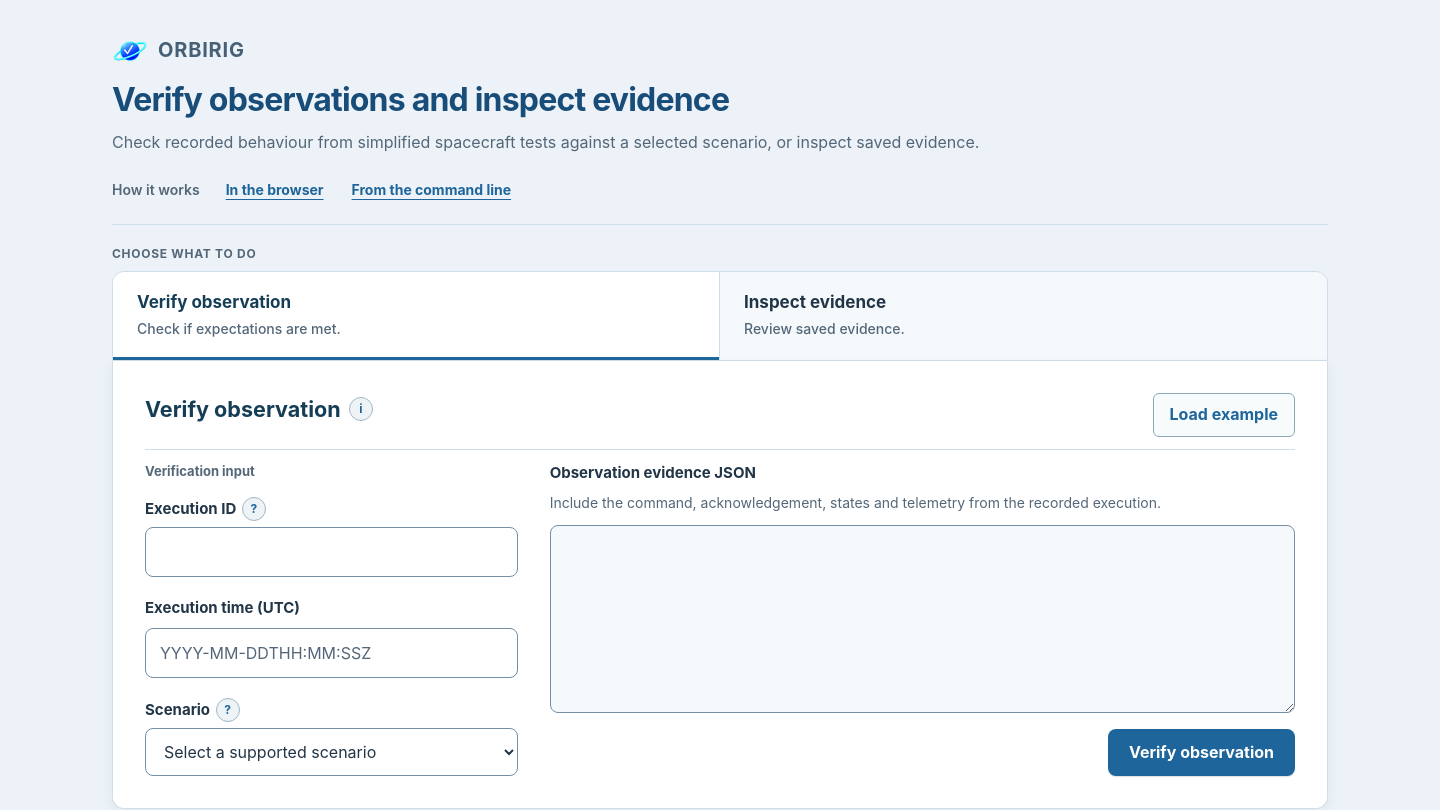
Test: App help › opens browser instructions for the active verification workflow on every opening
Click the button "In the browser" at (275, 190), box [224,168,326,212]
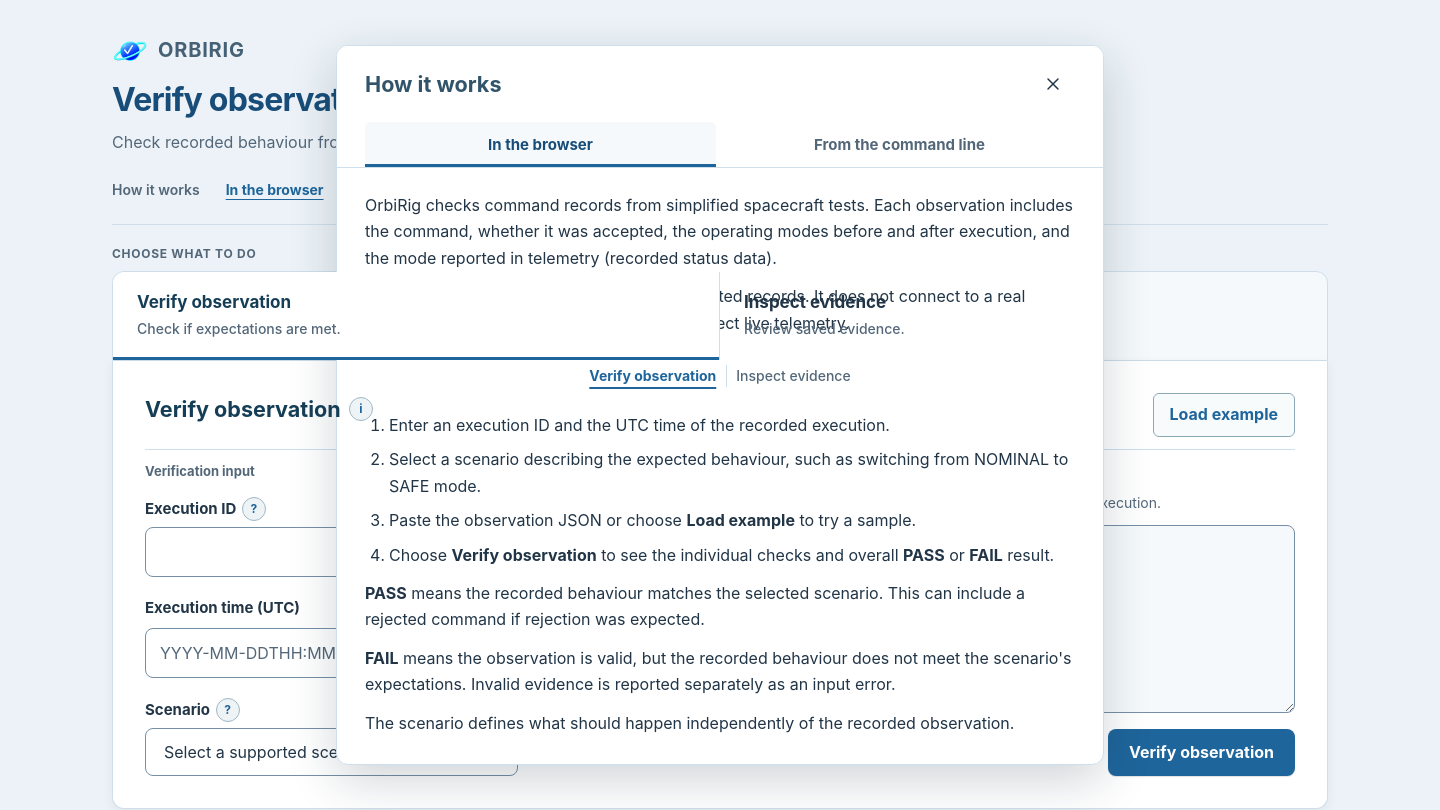
Now the tab "Verify observation" is shown, box [579,354,726,398]
Click the tab "Inspect evidence" at (794, 376), box [726,354,861,398]
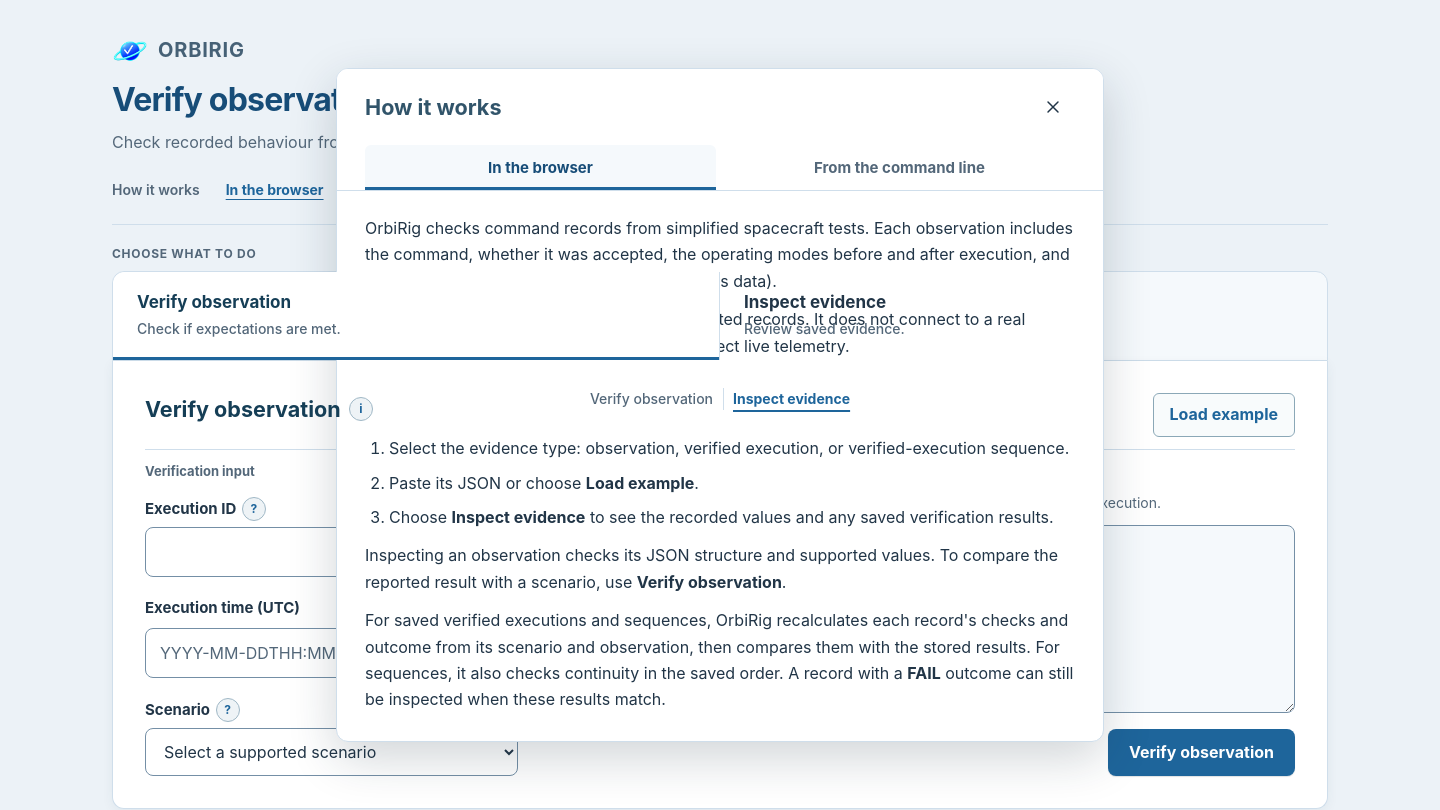
Now the number of lists is 1, box [365,435,1075,530]
Now the panel named "Inspect evidence" is shown, box [365,435,1075,713]
Click the button named "Close" at (1053, 107), box [1031,85,1075,129]
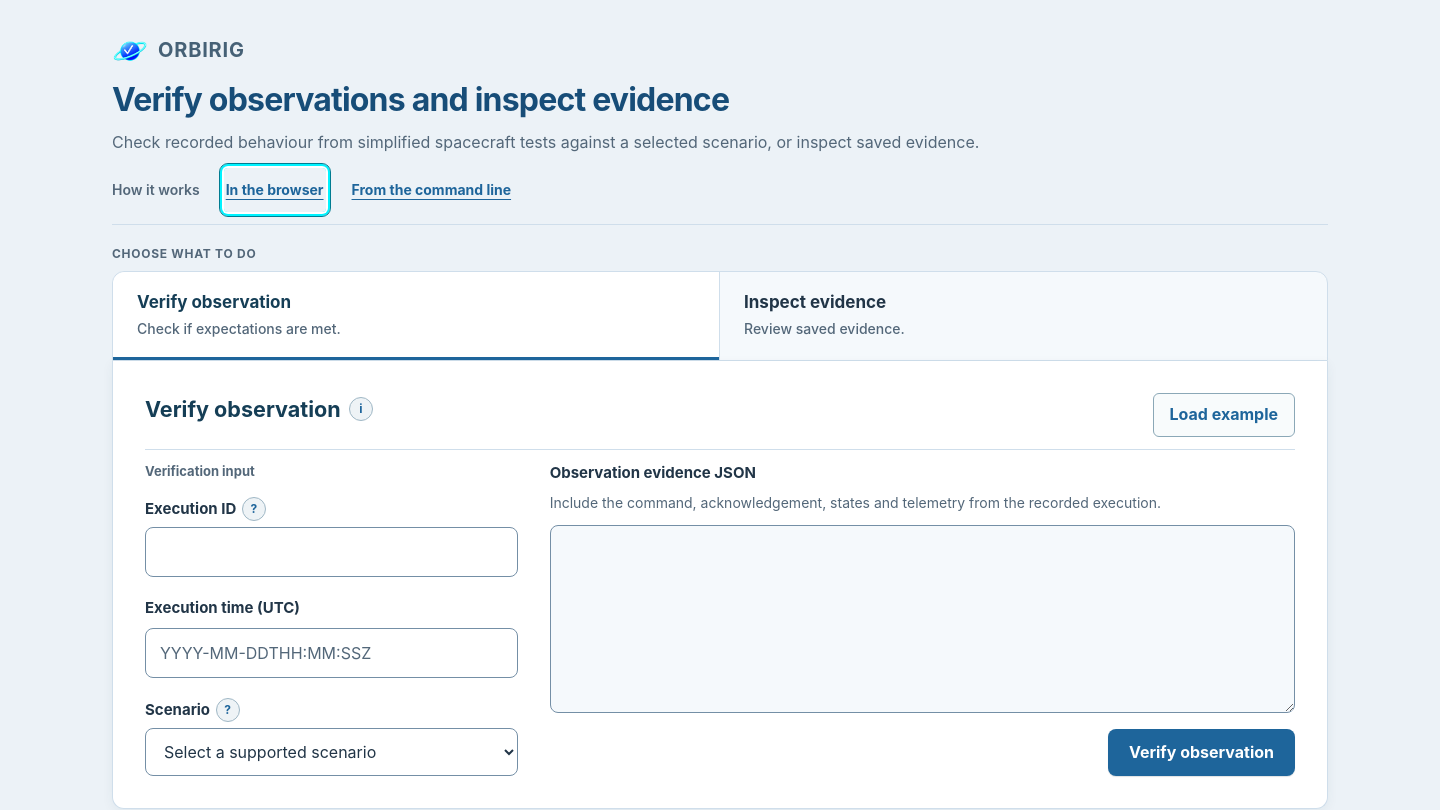
Click the button "In the browser" at (275, 190), box [224,168,326,212]
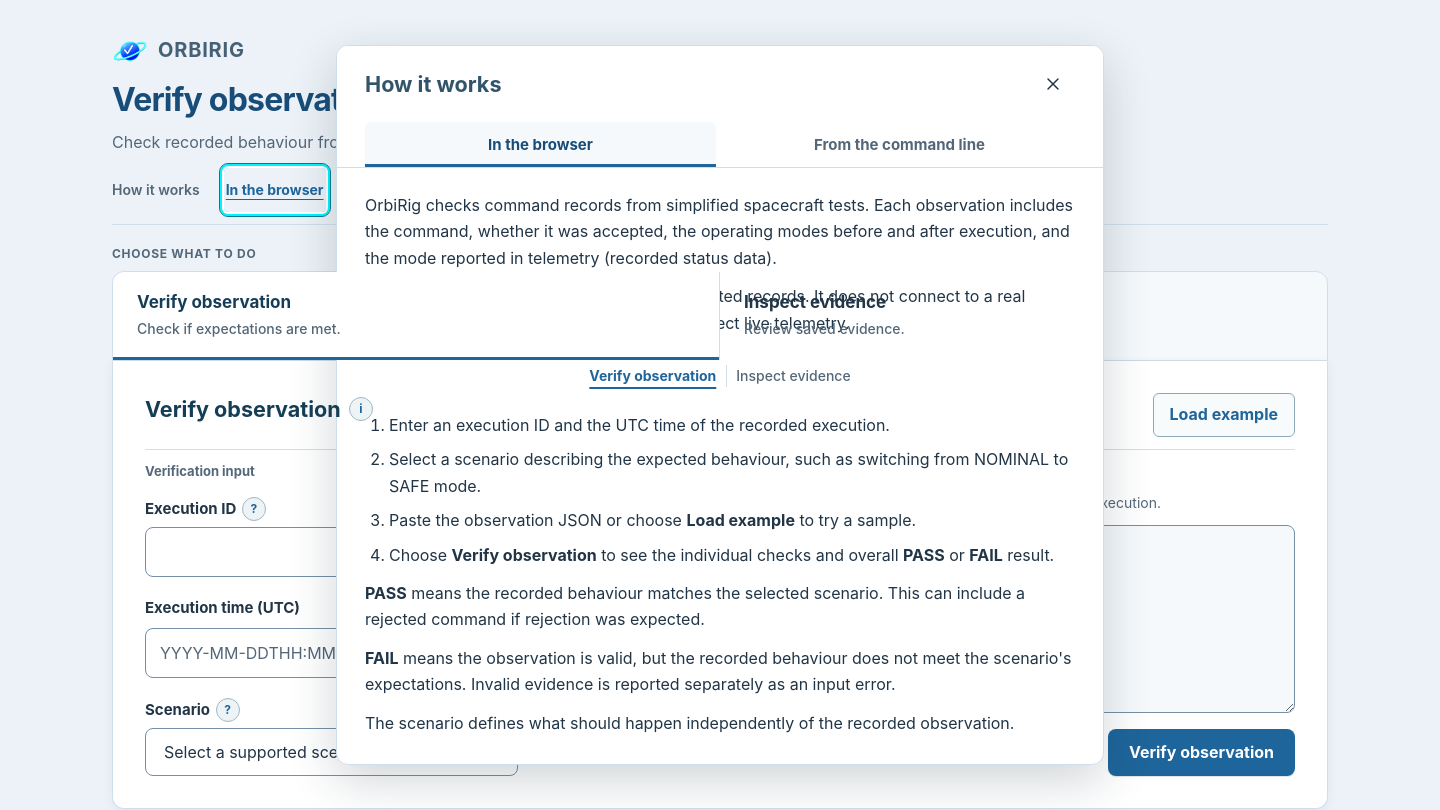
Now the tab "Verify observation" is shown, box [579,354,726,398]
